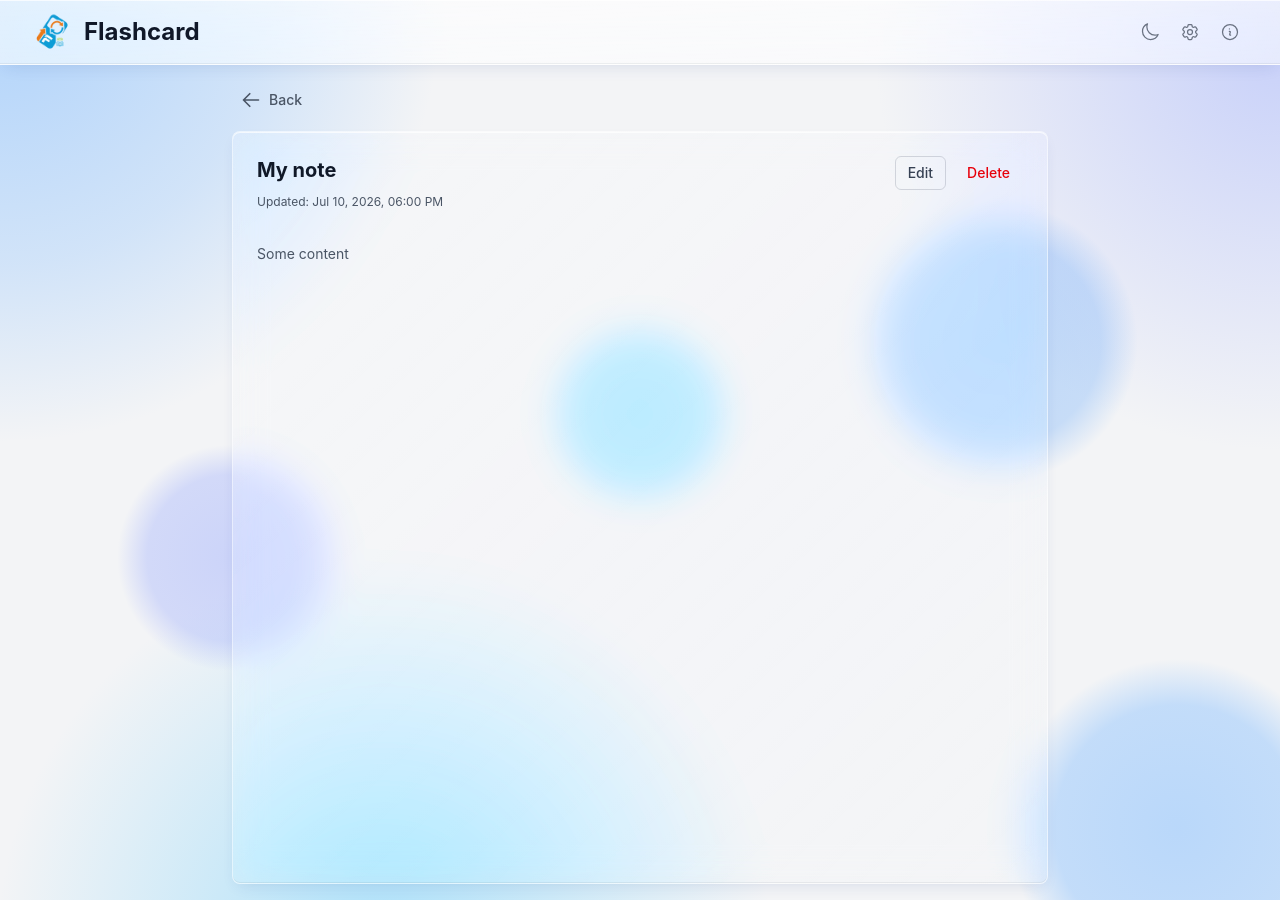
Test: NoteDetailPage › edits and saves changes to the note
Expected: the heading "My note" is shown, left=257, top=156, right=336, bottom=184
Click the button "Edit": (920, 173) left=895, top=156, right=946, bottom=190
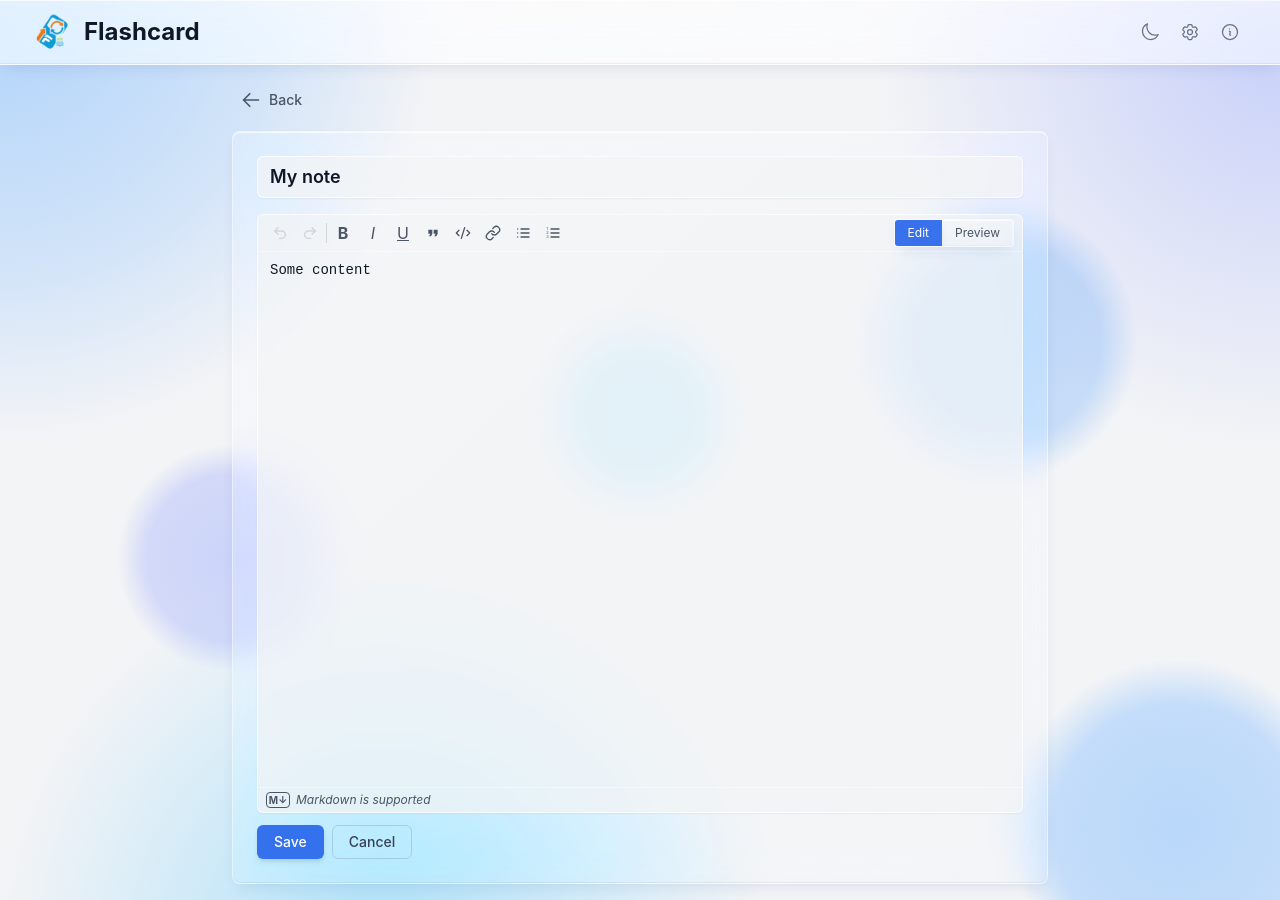
Replace the text in the field with placeholder "Note title" with "Updated title": (640, 177) left=257, top=156, right=1023, bottom=198
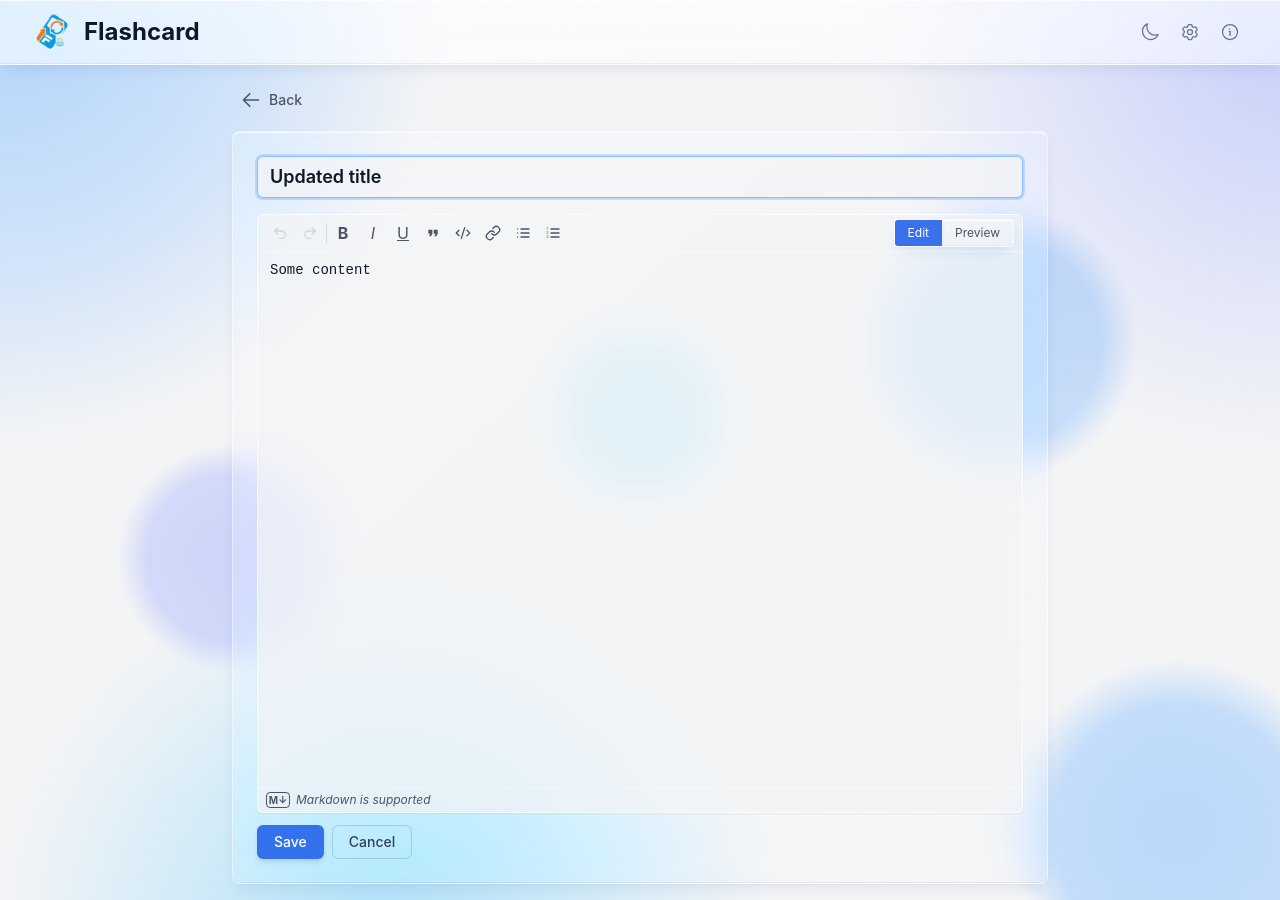
Replace the text in the text box with placeholder "Write your note..." with "Updated content": (640, 520) left=258, top=252, right=1022, bottom=787
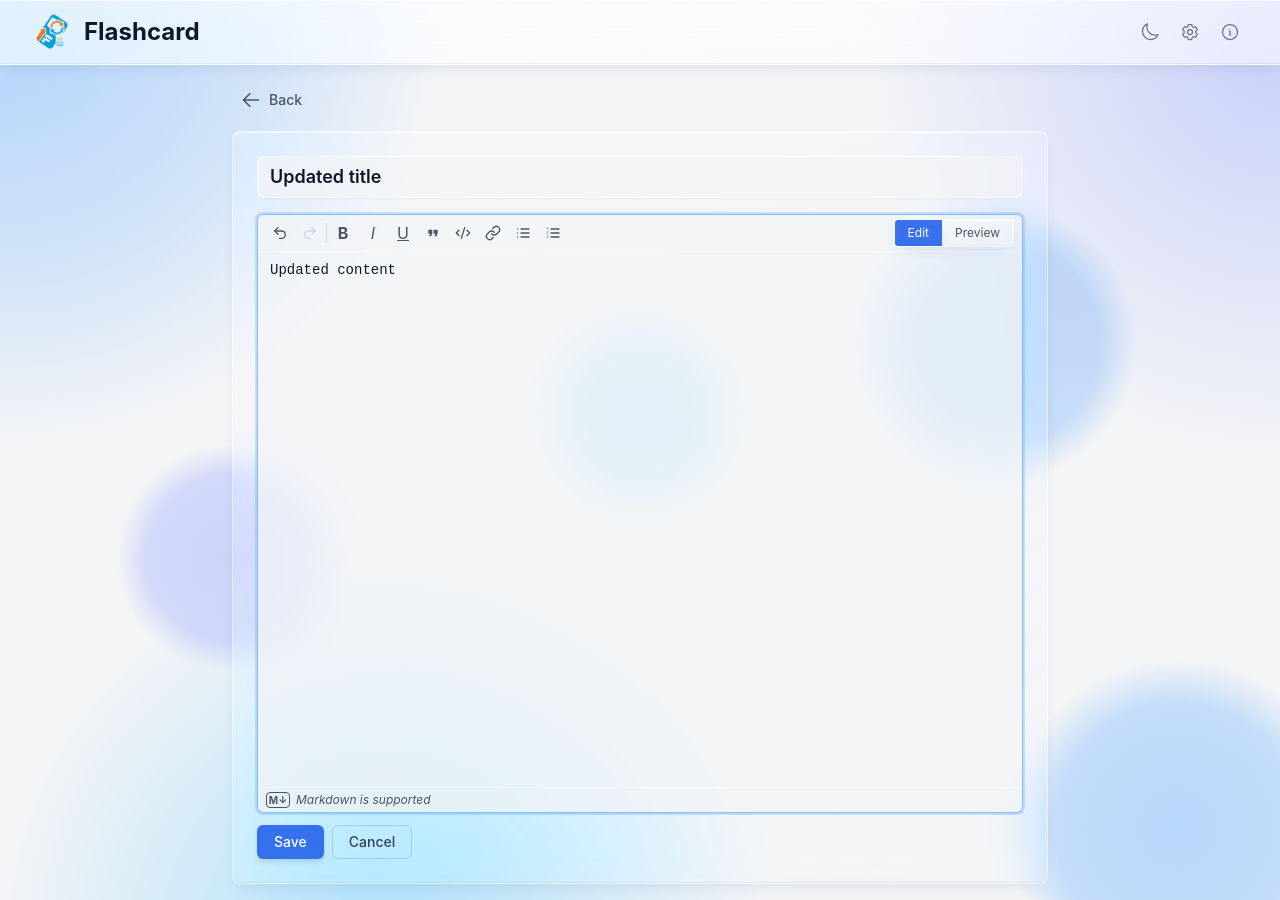
Click the button "Save": (290, 842) left=257, top=825, right=324, bottom=859
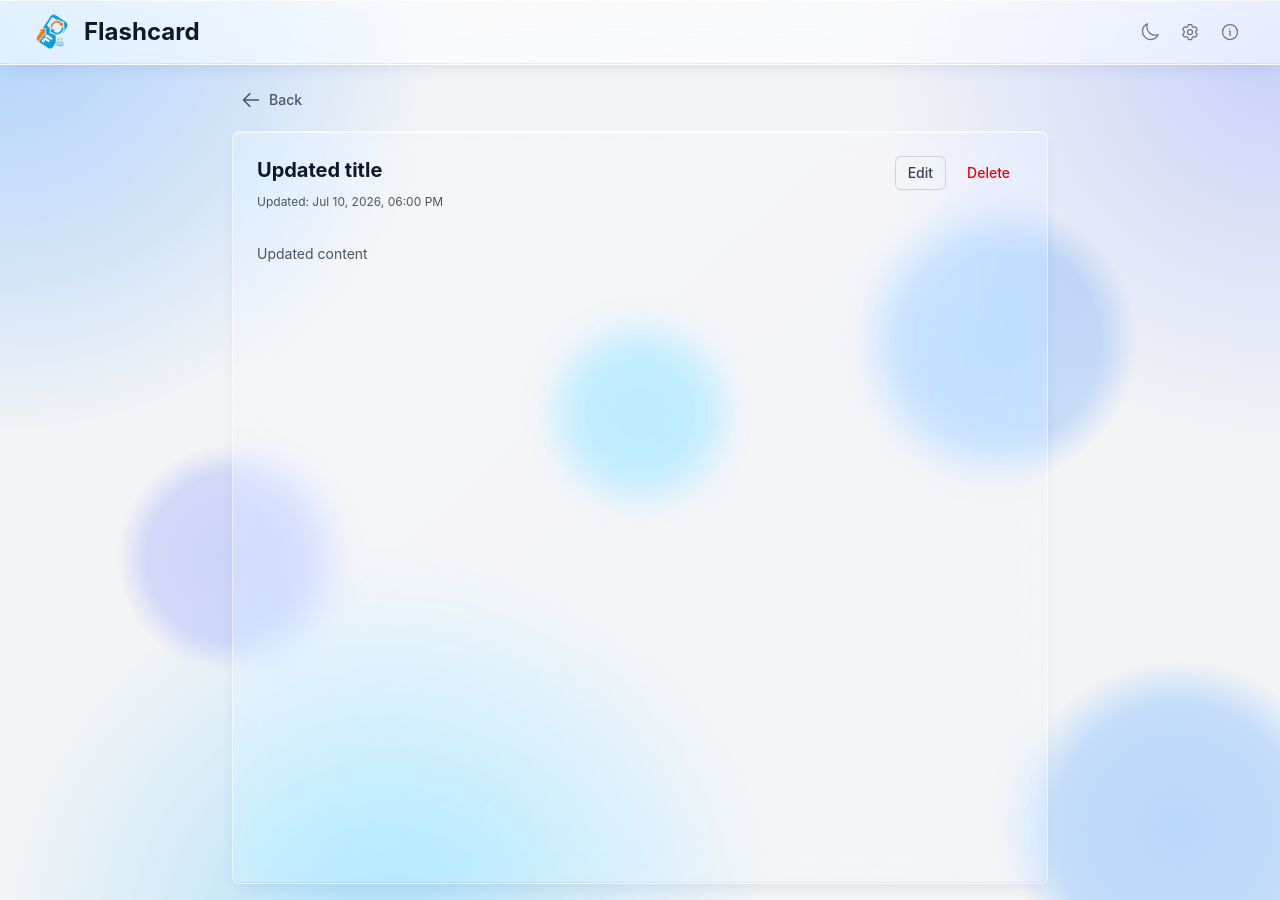
Result: the heading "Updated title" is shown at left=257, top=156, right=382, bottom=184
Result: the text "Updated content" is shown at left=257, top=245, right=368, bottom=262
